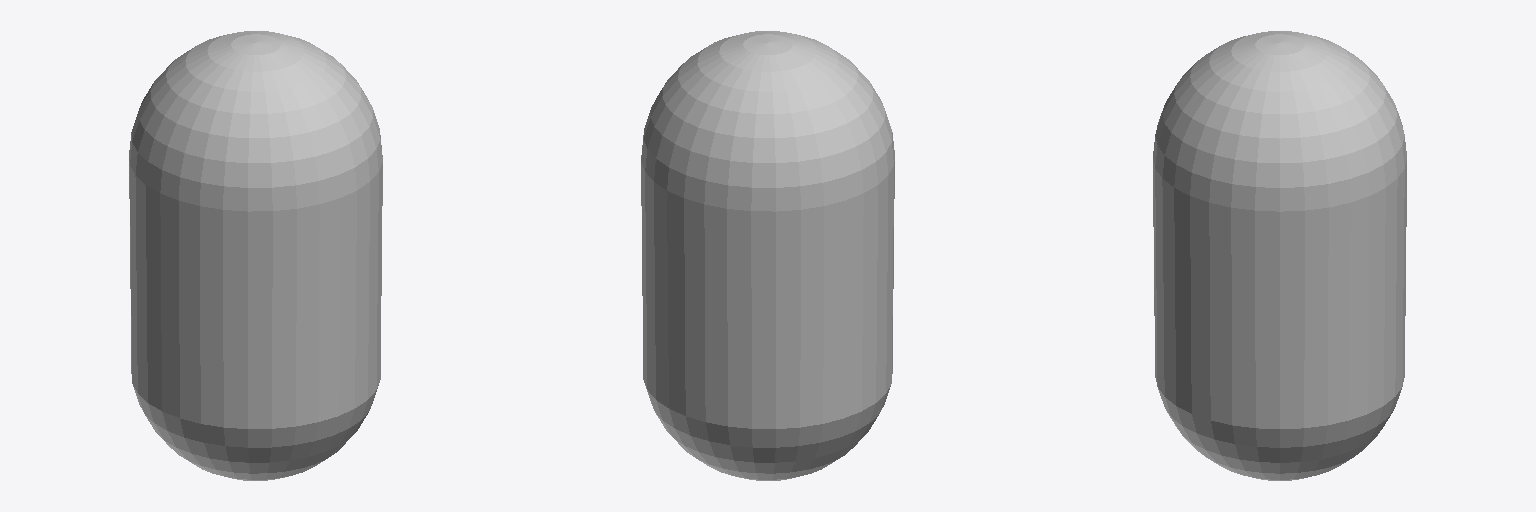
The model's file is person.obj.
3 views of the same model, side by side, from view 1: azimuth 30°, elevation 25°; view 2: azimuth 150°, elevation 25°; view 3: azimuth 270°, elevation 25° (orthographic).
Parts seen in each view (by area): view 1: Sphere; view 2: Sphere; view 3: Sphere.
Boxes of the visible parts, x1,y1,x2,y2 form: Sphere: [129, 31, 382, 480]; Sphere: [641, 31, 894, 480]; Sphere: [1153, 31, 1406, 480].
Bounding box in the file's own units: 2 × 3.7 × 2.